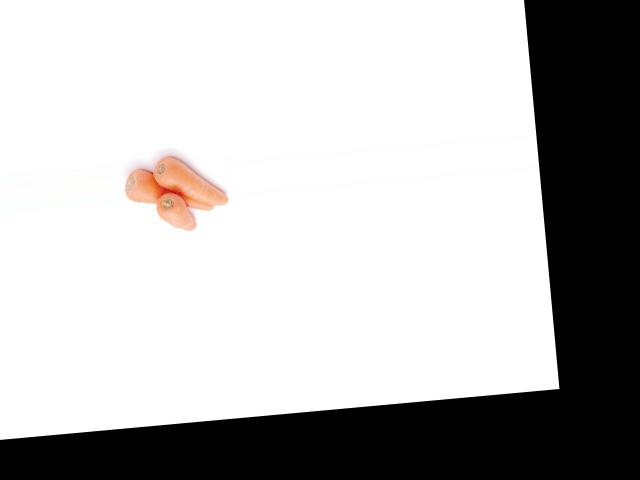carrot: (124, 159, 216, 216)
